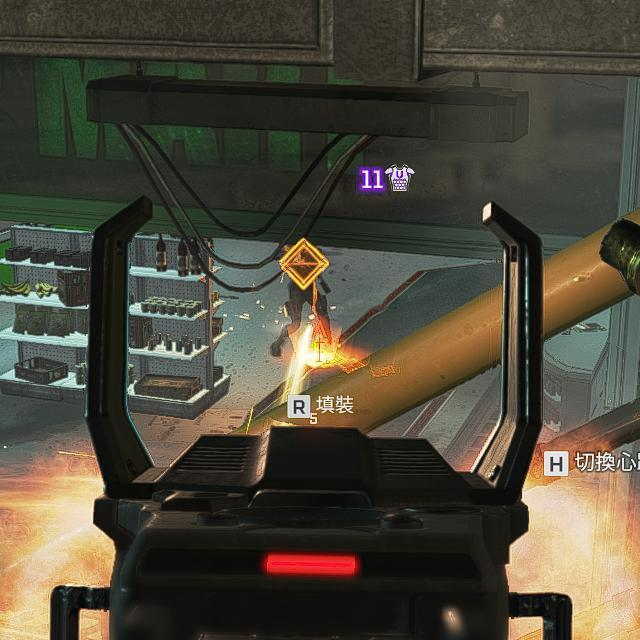avatar: (267, 240, 335, 358)
object: (278, 238, 330, 290)
